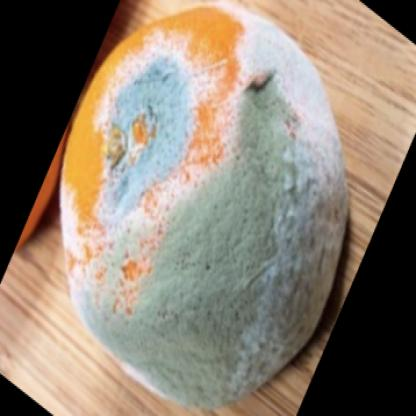rotten: (60, 8, 351, 407)
